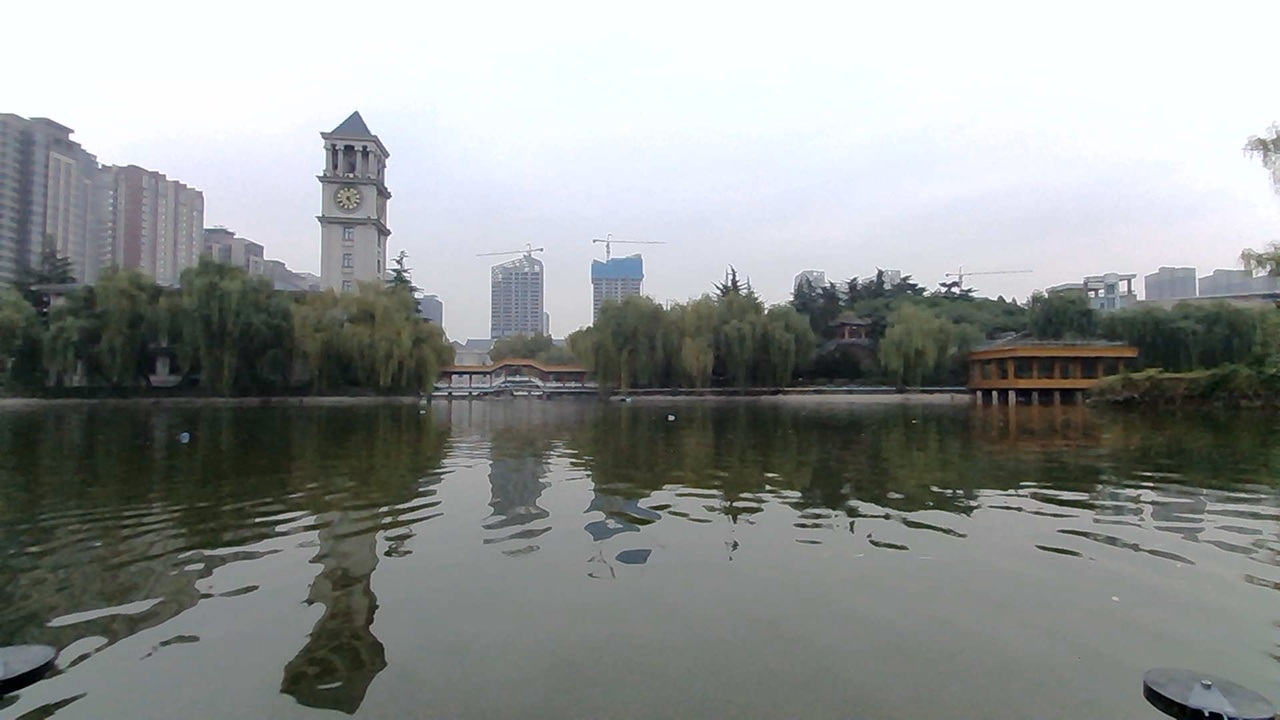bottle: (165, 428, 199, 450), (652, 405, 688, 424)
